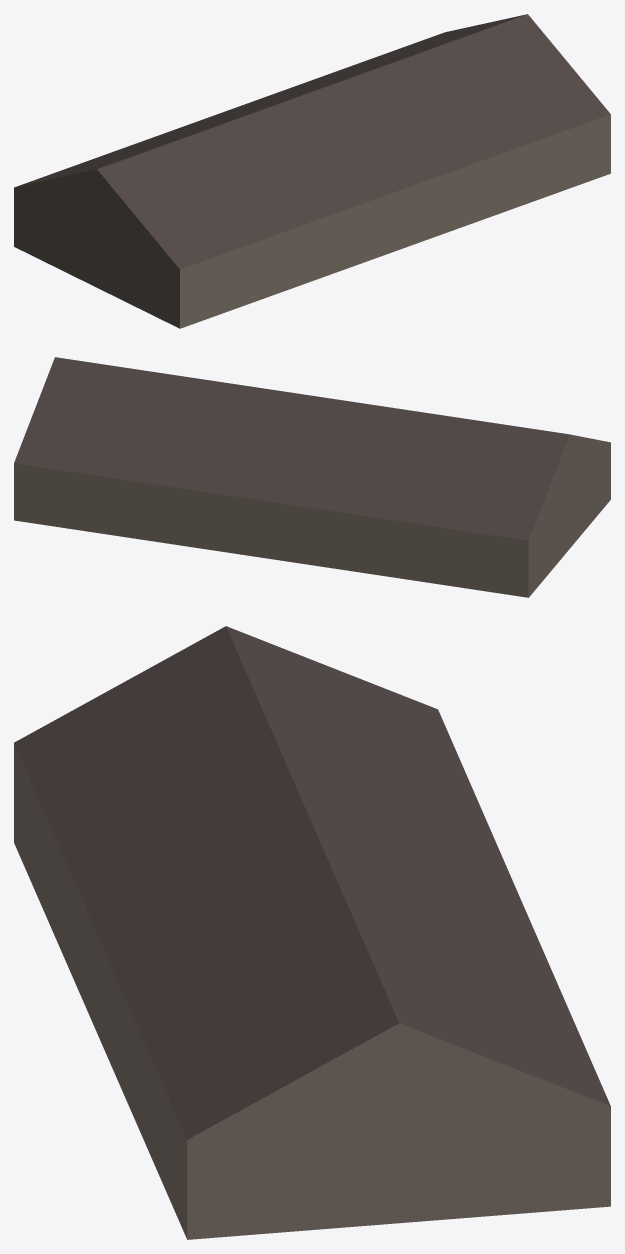
3 views of the same model, one above another, from view 1: azimuth 30°, elevation 25°; view 2: azimuth 150°, elevation 25°; view 3: azimuth 270°, elevation 25° (orthographic). The views are drawn at different scales.
Parts seen in each view (by area): view 1: HP-w858807459; view 2: HP-w858807459; view 3: HP-w858807459.
Boxes of the visible parts, box(x1,y1,x2,y2) form: HP-w858807459: box(14, 14, 610, 328); HP-w858807459: box(14, 357, 610, 597); HP-w858807459: box(14, 626, 610, 1239).
Bounding box in the file's own units: 27.7 × 6 × 16.23.
